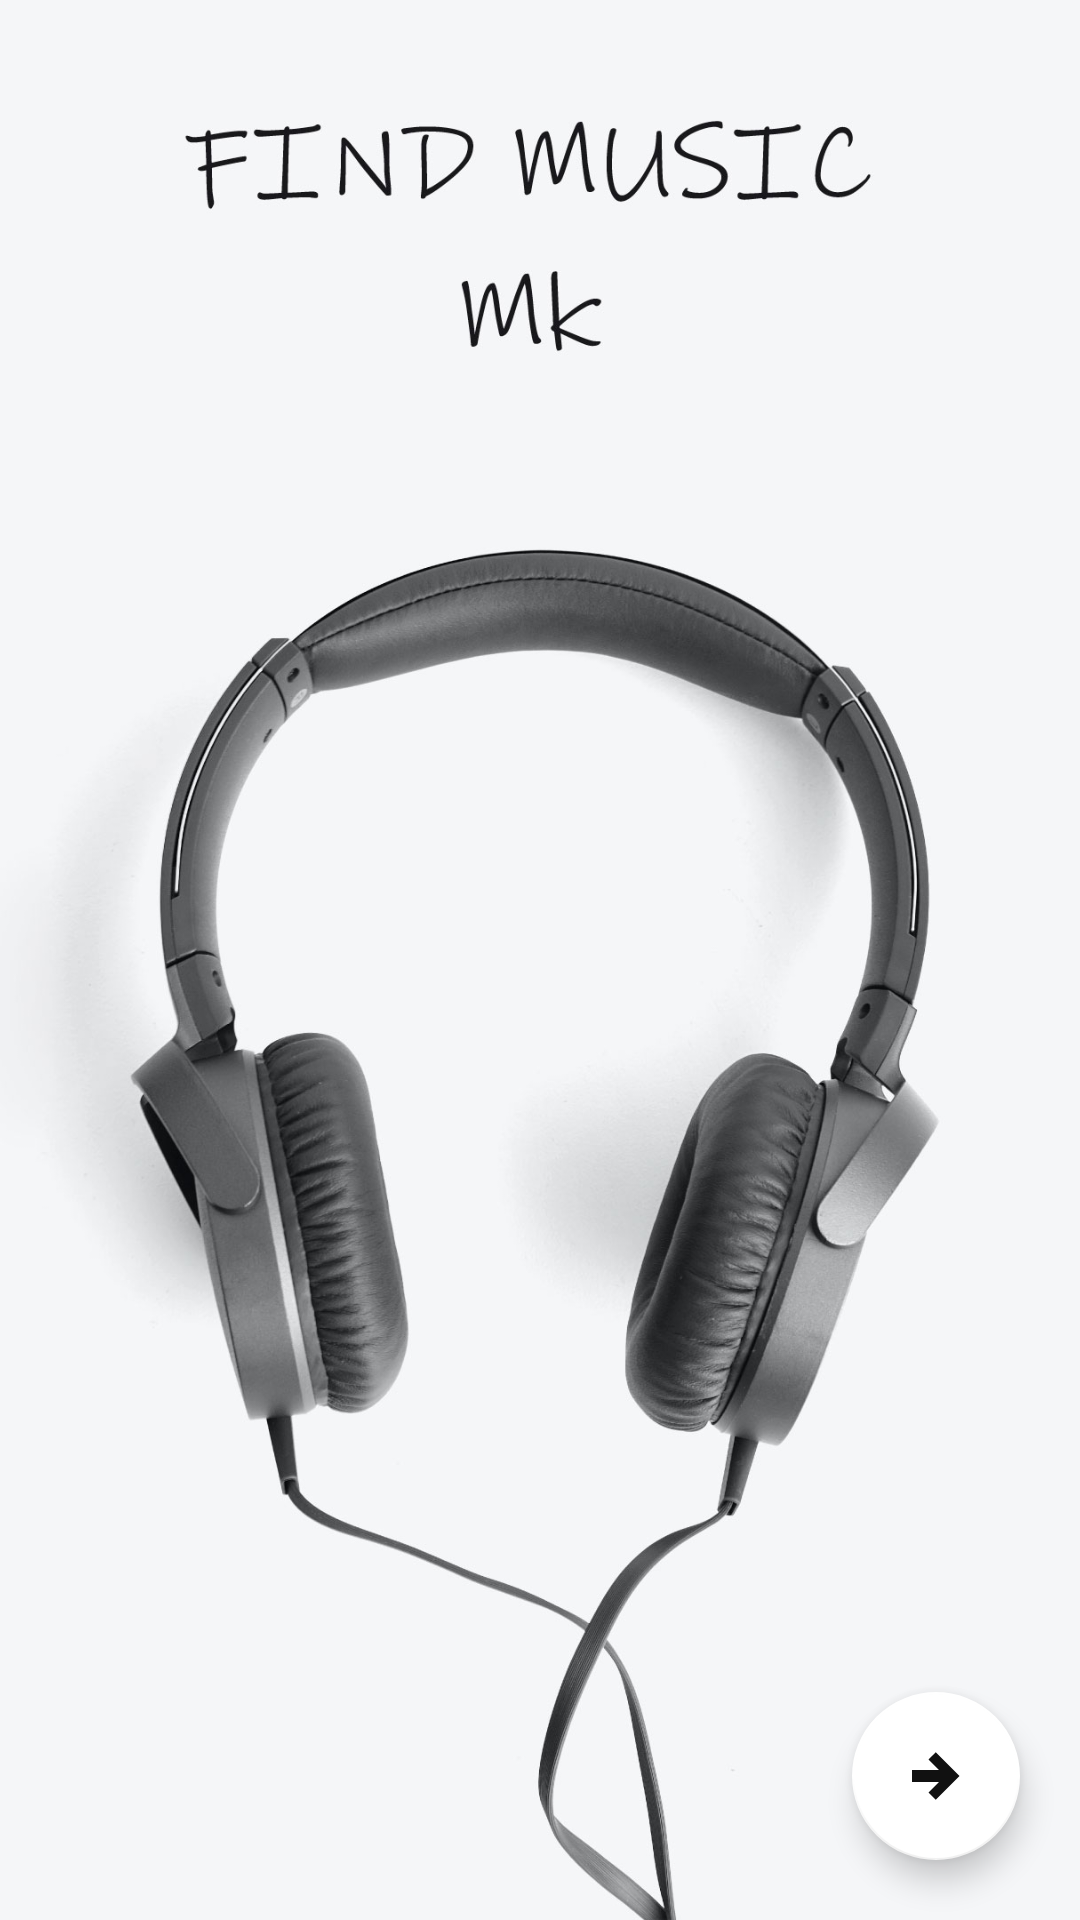

Locate icon controls on the screen. Image size 1080 x 1920, boxes as (x1, y1, x2, y2).
arrow right: (852, 1692, 1020, 1860)
